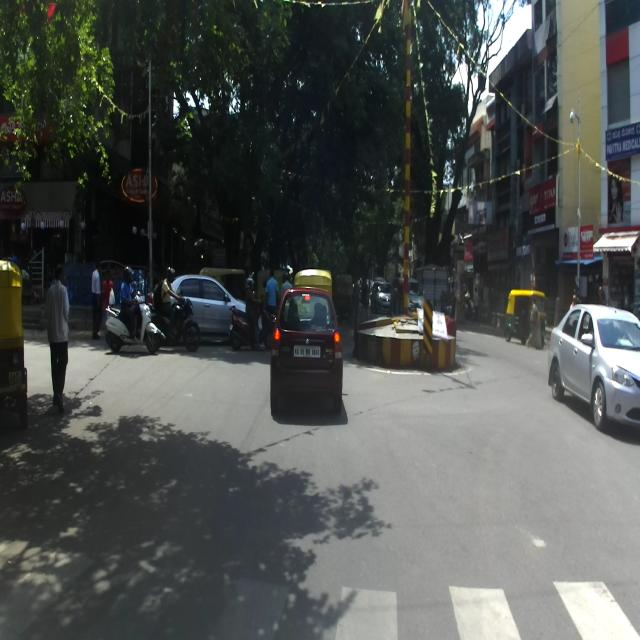car ahead at: (545, 295, 640, 432), (274, 279, 342, 416)
motorcycle ahead at: (228, 269, 271, 357)
